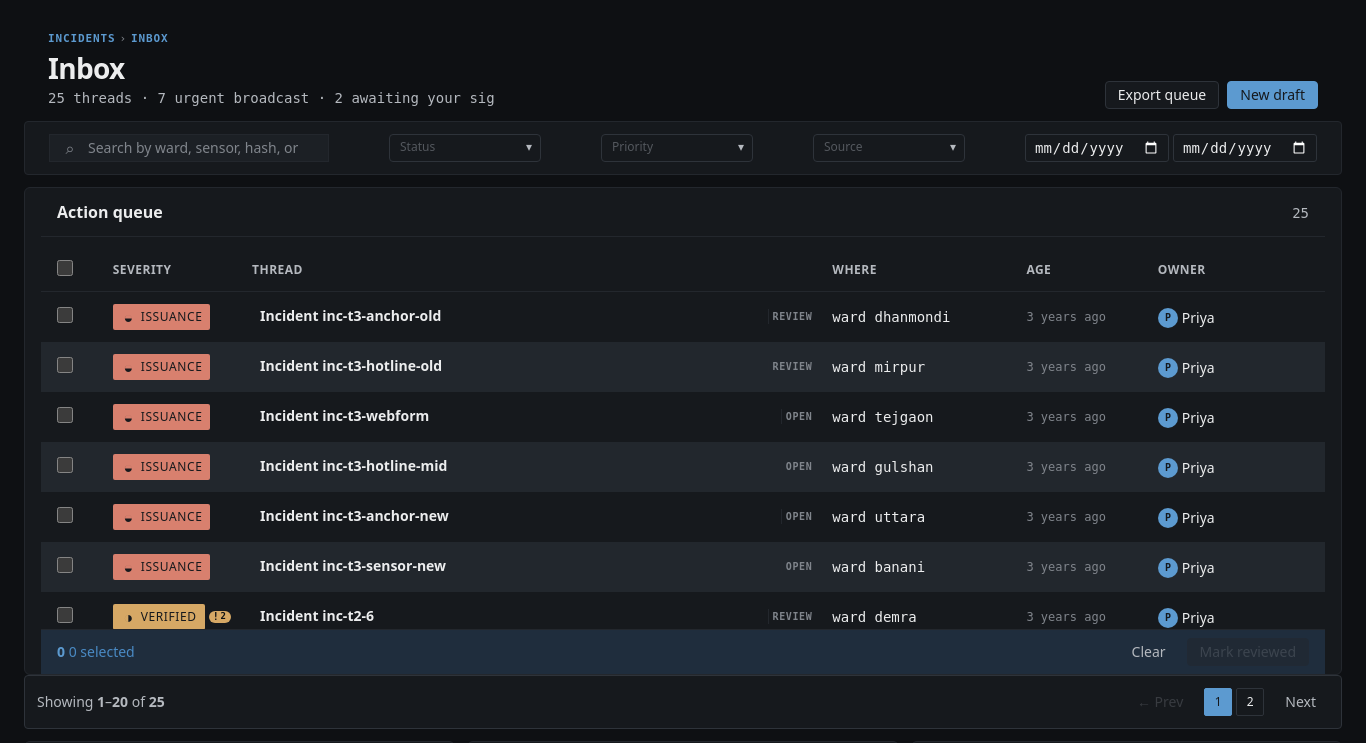
Test case: WO-009 Inbox List reconciliation › sorts rows T3 > T2 > T1 > Resolved with older rows first within a tier
Expected: the element with test id "inbox-row-band-" is shown, [113,304,210,330]
Click the button with test id "inbox-pagination-next".
click(1301, 702)  # box [1272,688,1329,716]
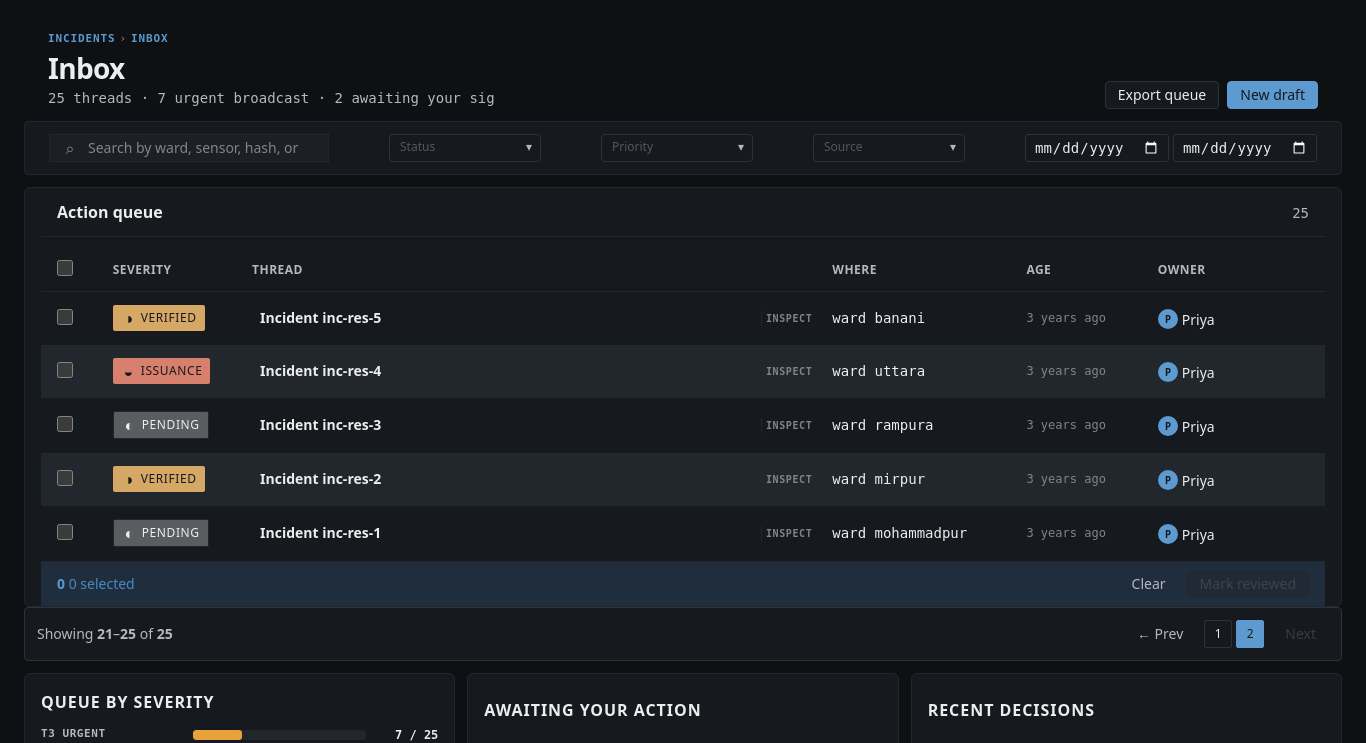
Expected: the element with test id "inbox-row-band-evt-inc-res-1" is shown, [113,519,209,547]
